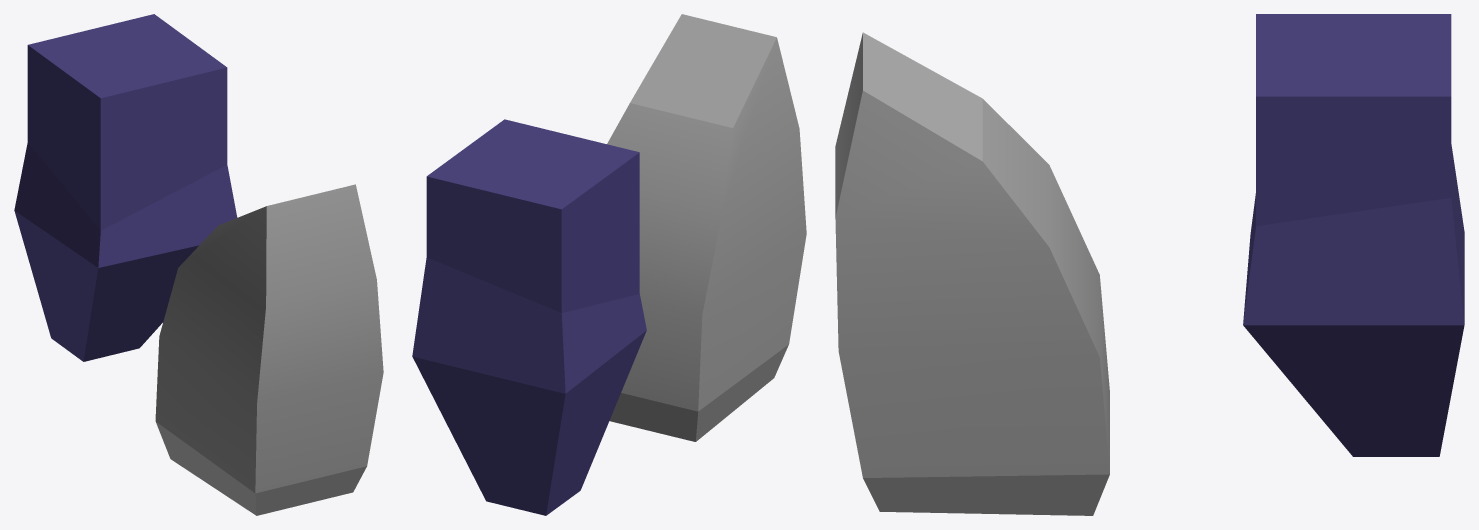
File: rocks.fbx
3 renders of one model, left to right at view 1: azimuth 30°, elevation 25°; view 2: azimuth 150°, elevation 25°; view 3: azimuth 270°, elevation 25°, orthographic. The views are drawn at different scales.
Parts seen in each view (by area): view 1: pCube2, pCube1; view 2: pCube1, pCube2; view 3: pCube2, pCube1.
Part boxes in pixels (bbox=[...]): pCube2: bbox=[155, 184, 383, 515]; pCube1: bbox=[14, 14, 237, 361]; pCube1: bbox=[412, 119, 646, 515]; pCube2: bbox=[607, 14, 806, 441]; pCube2: bbox=[835, 32, 1109, 515]; pCube1: bbox=[1243, 14, 1464, 456].
Size of the model in its own units: 1.13 by 2.4 by 3.22.
